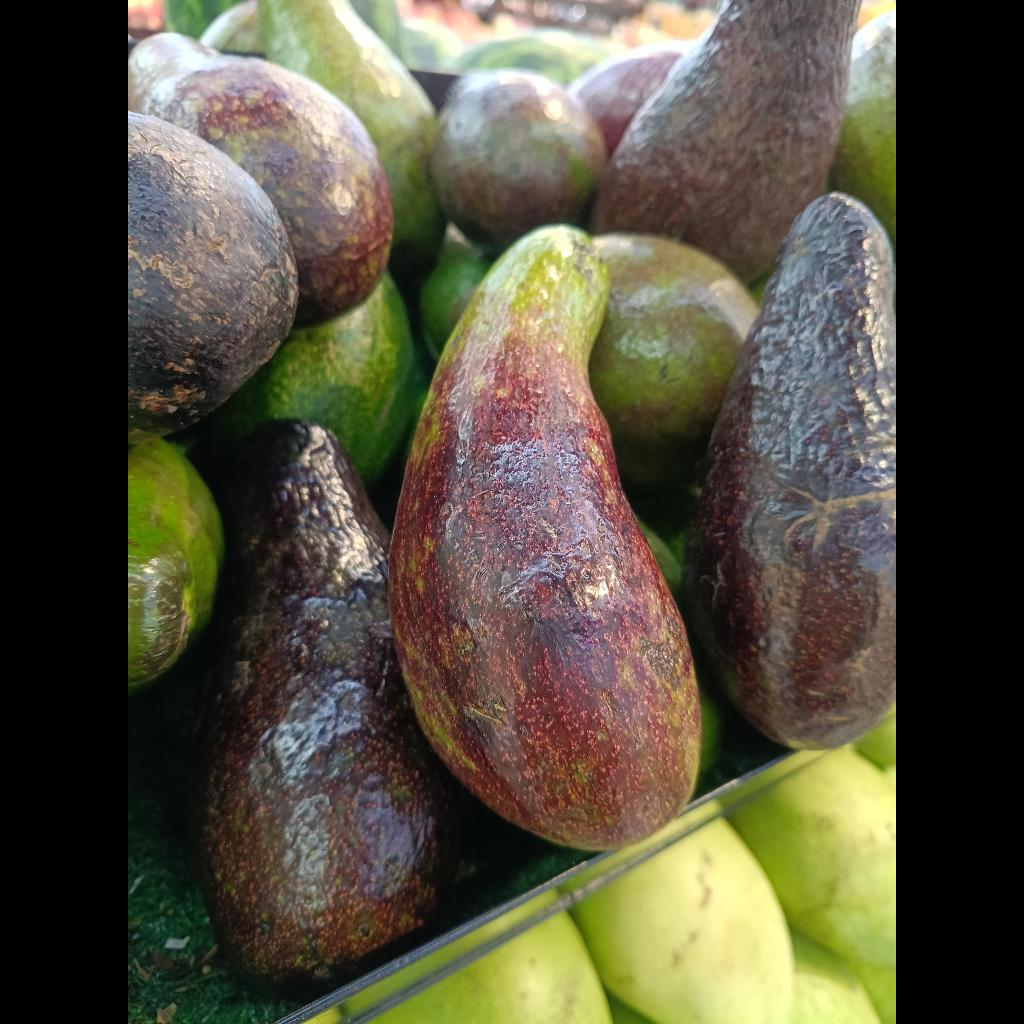anthracnose: (390, 226, 701, 850), (190, 420, 462, 986), (683, 192, 896, 748), (128, 112, 298, 440)
